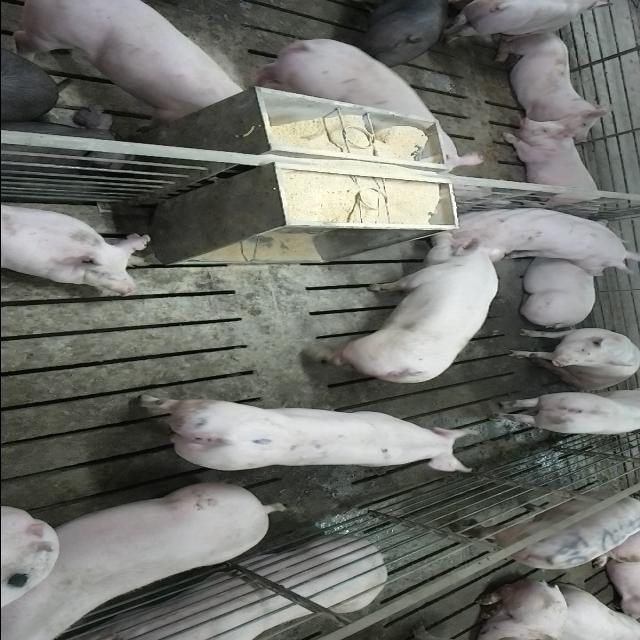Sitting: (421, 202, 636, 272), (503, 326, 640, 390)
Standing: (10, 2, 249, 124), (132, 401, 482, 480), (242, 35, 432, 126), (444, 482, 640, 568), (488, 388, 638, 438), (342, 0, 448, 65)
Sternal_lying: (61, 539, 391, 640), (1, 200, 152, 294), (492, 28, 620, 138), (500, 118, 609, 212), (514, 253, 602, 325)
